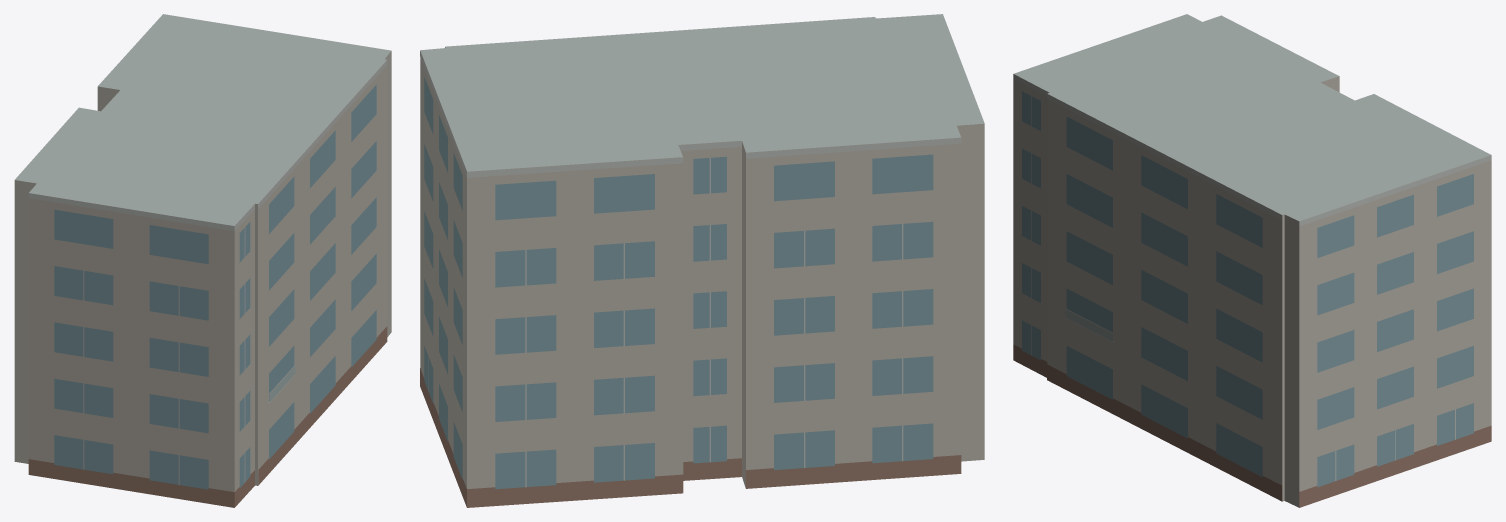
The model's file is survey-upis-32907315.glb.
3 views of the same model, side by side, from view 1: azimuth 30°, elevation 25°; view 2: azimuth 150°, elevation 25°; view 3: azimuth 270°, elevation 25° (orthographic). The views are drawn at different scales.
Parts seen in each view (by area): view 1: survey-upis-32907315.tmp; view 2: survey-upis-32907315.tmp; view 3: survey-upis-32907315.tmp.
Boxes of the visible parts, bbox=[...] form: survey-upis-32907315.tmp: bbox=[14, 14, 391, 507]; survey-upis-32907315.tmp: bbox=[420, 14, 984, 507]; survey-upis-32907315.tmp: bbox=[1013, 14, 1491, 507].
Bounding box in the file's own units: 20.89 × 13.45 × 20.35.
